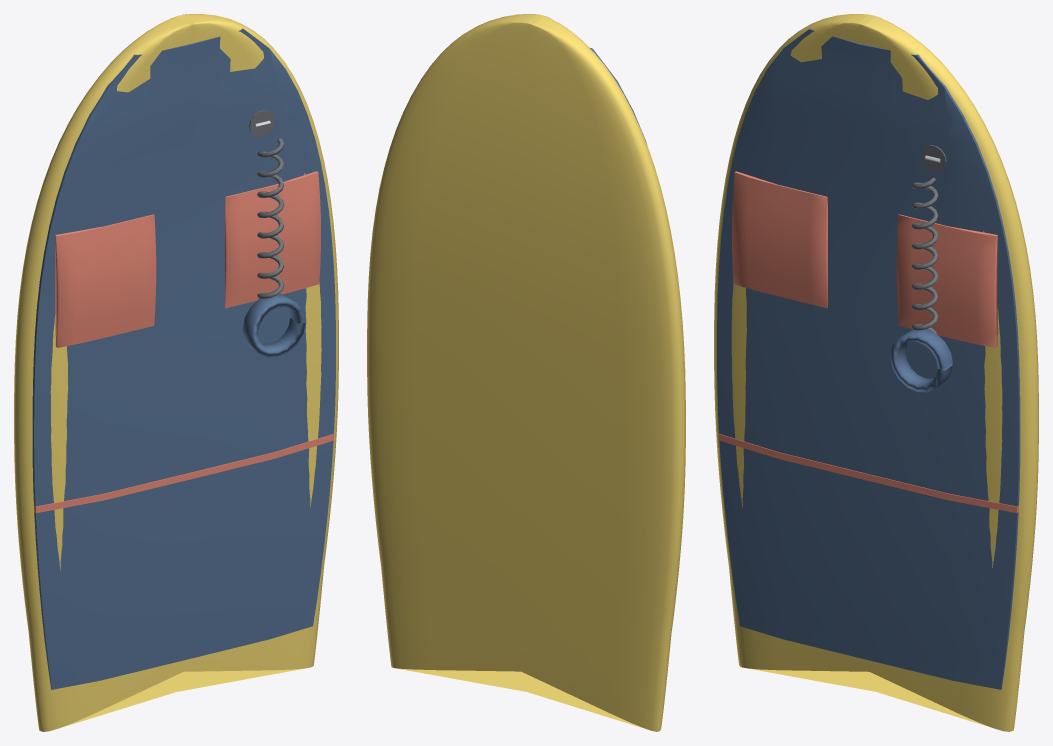
The model's file is beach-surf-and-paddle-kit-bodyboard-5f1c318f__39424.glb.
3 renders of one model, left to right at view 1: azimuth 30°, elevation 25°; view 2: azimuth 150°, elevation 25°; view 3: azimuth 330°, elevation 25°, orthographic.
Parts seen in each view (by area): view 1: bodyboard-navy, bodyboard-sun, bodyboard-coral, bodyboard-charcoal; view 2: bodyboard-sun; view 3: bodyboard-navy, bodyboard-sun, bodyboard-coral, bodyboard-charcoal.
Boxes of the visible parts, x1,y1,x2,y2 form: bodyboard-navy: (32,28,335,689); bodyboard-sun: (14,14,338,731); bodyboard-coral: (34,171,334,513); bodyboard-charcoal: (249,110,284,298); bodyboard-sun: (367,14,685,731); bodyboard-navy: (717,28,1020,689); bodyboard-sun: (714,14,1038,731); bodyboard-coral: (718,171,1018,513); bodyboard-charcoal: (911,145,946,333).
Bounding box in the file's own units: 0.54 × 1.1 × 0.1129.
